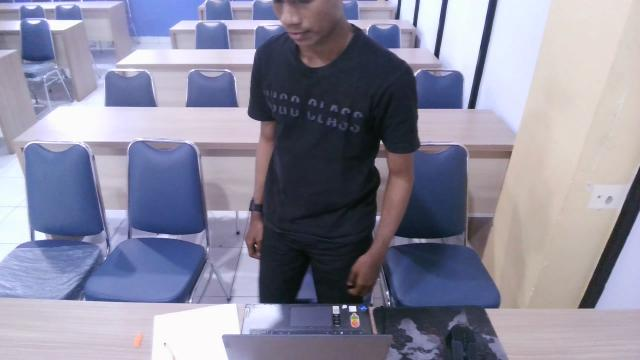Empty_Desk: (215, 0, 412, 360)
